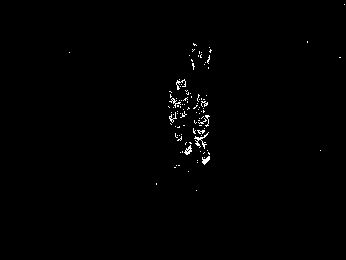person: (168, 78, 192, 156), (192, 93, 210, 166)
